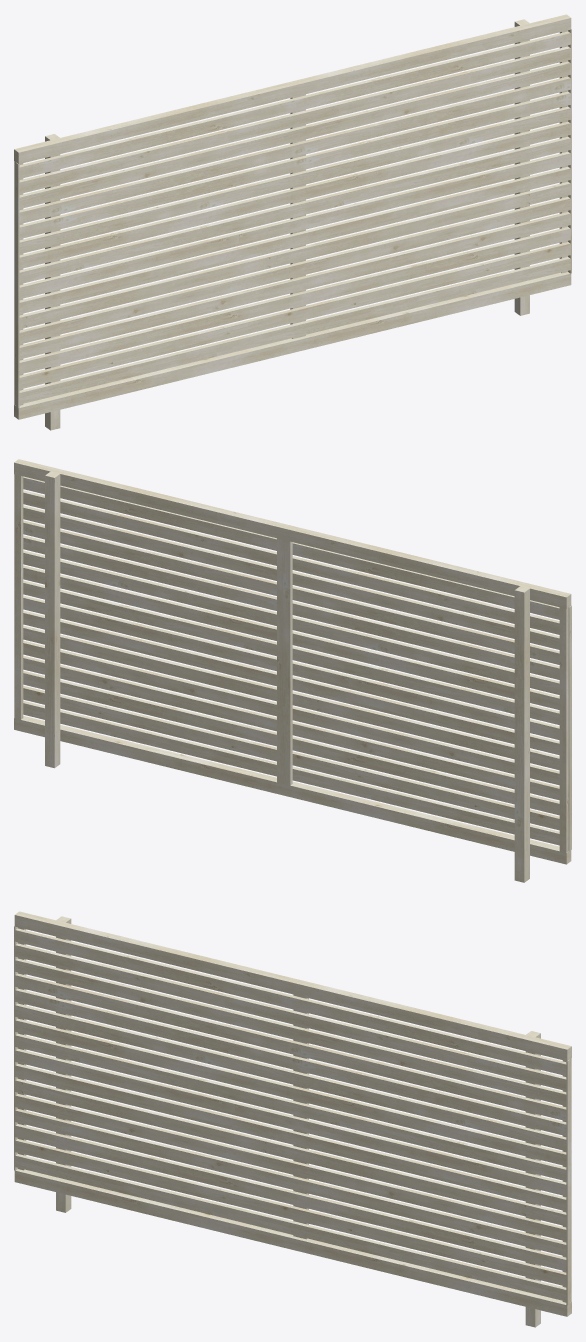
The model's file is dsf_yoko40_h1000_whitepine.fbx.
The picture shows the model from 3 angles, top to bottom: view 1: azimuth 30°, elevation 25°; view 2: azimuth 150°, elevation 25°; view 3: azimuth 330°, elevation 25°; orthographic projection.
Parts seen in each view (by area): view 1: dsf_yoko40_h1000_whitepine; view 2: dsf_yoko40_h1000_whitepine; view 3: dsf_yoko40_h1000_whitepine.
Part boxes in pixels (<box>): dsf_yoko40_h1000_whitepine: <box>14,14,571,430</box>; dsf_yoko40_h1000_whitepine: <box>14,459,571,882</box>; dsf_yoko40_h1000_whitepine: <box>14,911,571,1327</box>.
Bounding box in the file's own units: 200 × 100 × 6.55.
Materials: 1 (1 with a texture image).
